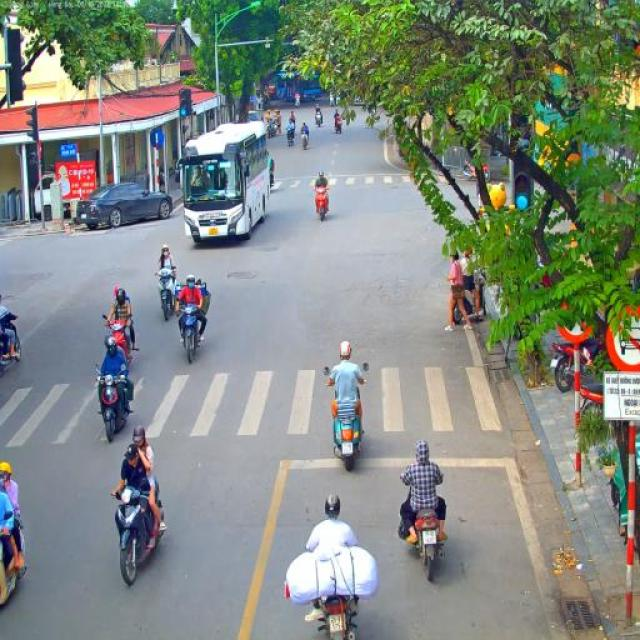bus: (174, 119, 270, 246), (297, 68, 322, 102)
car: (76, 181, 173, 230)
motorcycle: (108, 478, 164, 586), (322, 362, 370, 472), (607, 441, 640, 547), (549, 338, 612, 393), (94, 362, 130, 442), (0, 512, 29, 608), (412, 508, 447, 582), (312, 594, 358, 640), (174, 300, 205, 364), (452, 268, 487, 324), (102, 312, 139, 364), (0, 304, 22, 375), (154, 267, 177, 322), (574, 375, 604, 414), (462, 158, 492, 182), (313, 185, 329, 221), (264, 116, 274, 140), (300, 130, 310, 150), (286, 127, 296, 147), (334, 116, 344, 134), (314, 111, 324, 128), (294, 98, 300, 109)
truck: (26, 171, 76, 221)
